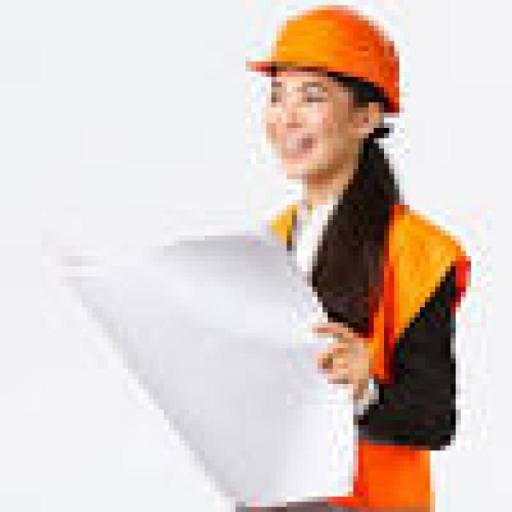helmet: (241, 0, 420, 118)
vest: (271, 194, 482, 497)
